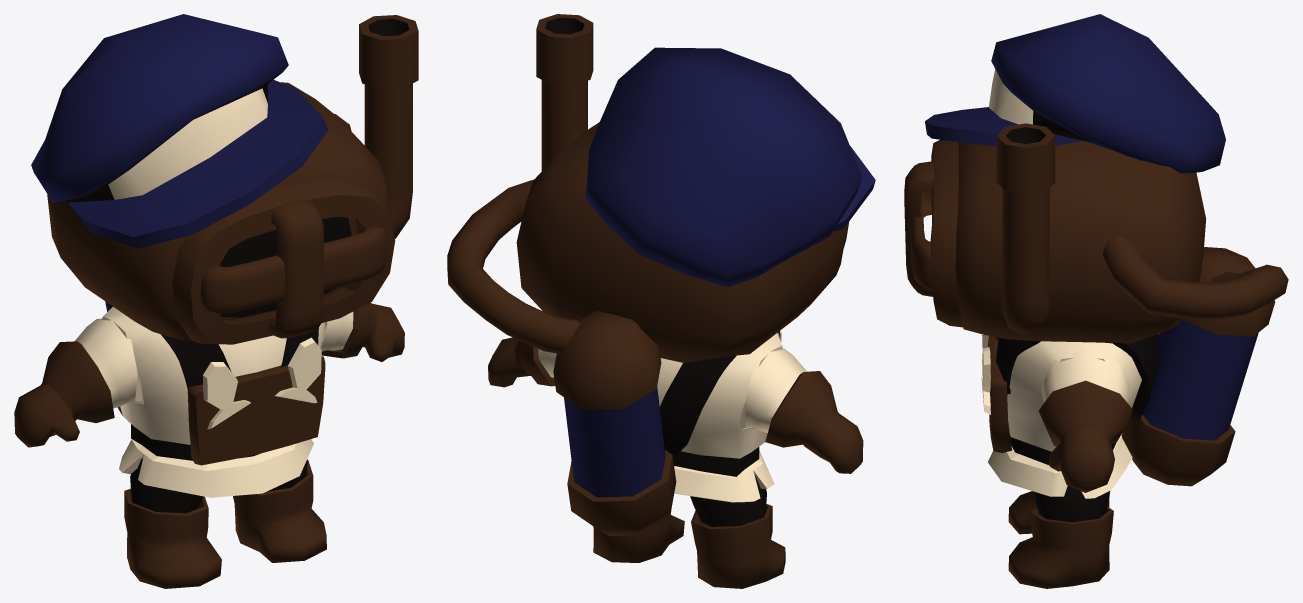
The model's file is Mesh_Player_Static.fbx.
3 views of the same model, side by side, from view 1: azimuth 30°, elevation 25°; view 2: azimuth 150°, elevation 25°; view 3: azimuth 270°, elevation 25° (orthographic). The views are drawn at different scales.
Parts seen in each view (by area): view 1: Player_Head, Player_Body, Player_Legs; view 2: Player_Head, Player_Body, Player_GasBottle, Player_Legs; view 3: Player_Head, Player_Body, Player_GasBottle, Player_Legs.
Part boxes in pixels (x1,y1,x2,y2): Player_Head: [31, 14, 418, 344]; Player_Body: [14, 302, 404, 497]; Player_Legs: [124, 458, 326, 588]; Player_Head: [447, 14, 875, 362]; Player_Body: [488, 330, 863, 502]; Player_GasBottle: [553, 311, 676, 536]; Player_Legs: [593, 475, 785, 588]; Player_Head: [904, 14, 1288, 343]; Player_Body: [981, 333, 1160, 498]; Player_GasBottle: [1121, 247, 1275, 486]; Player_Legs: [1008, 485, 1113, 588].
Size of the model in its own units: 79.2 by 72.13 by 104.
